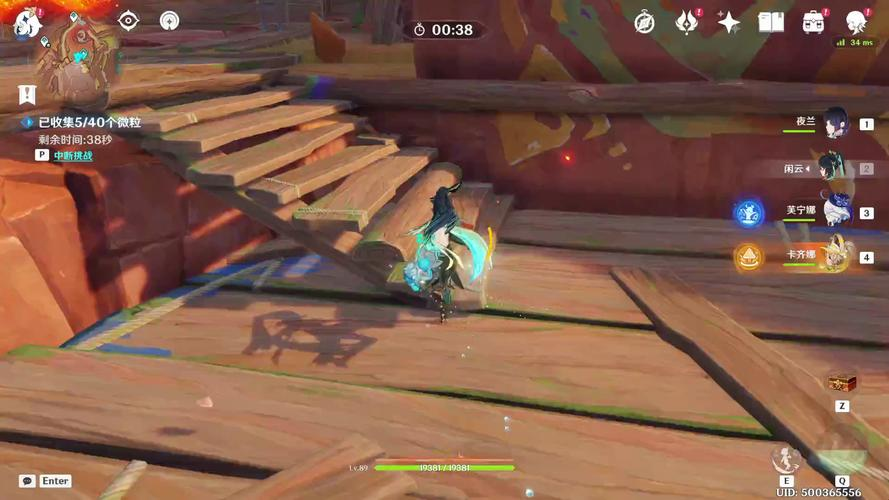夜兰: (820, 104, 855, 142)
